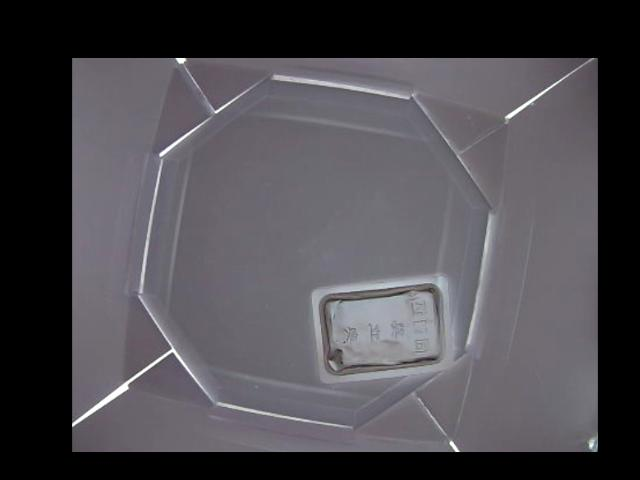Medicine: (314, 272, 453, 380)
